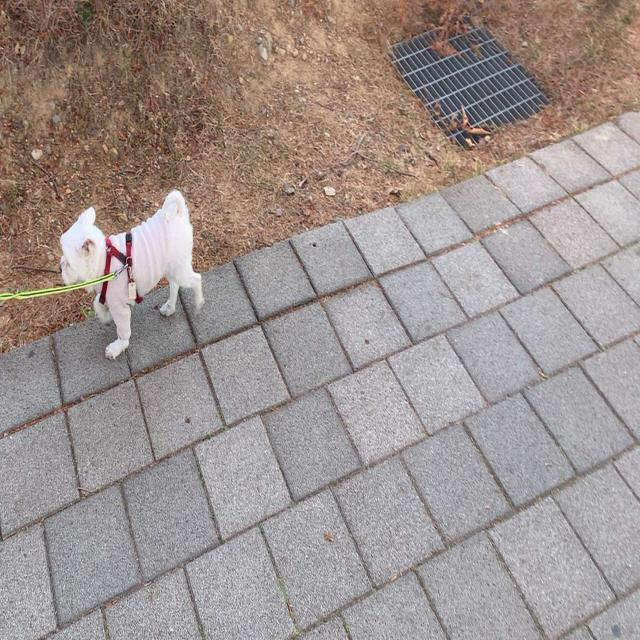Dog: (60, 190, 205, 362)
